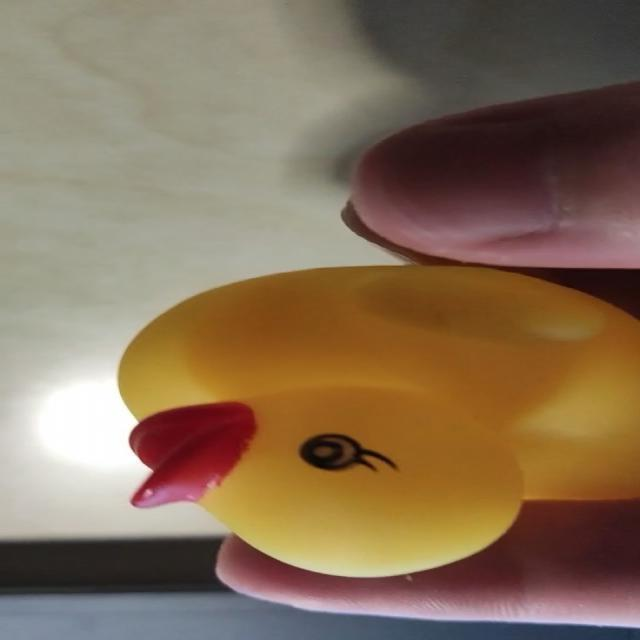rubber-duck: (118, 265, 638, 574), (125, 254, 128, 272)
